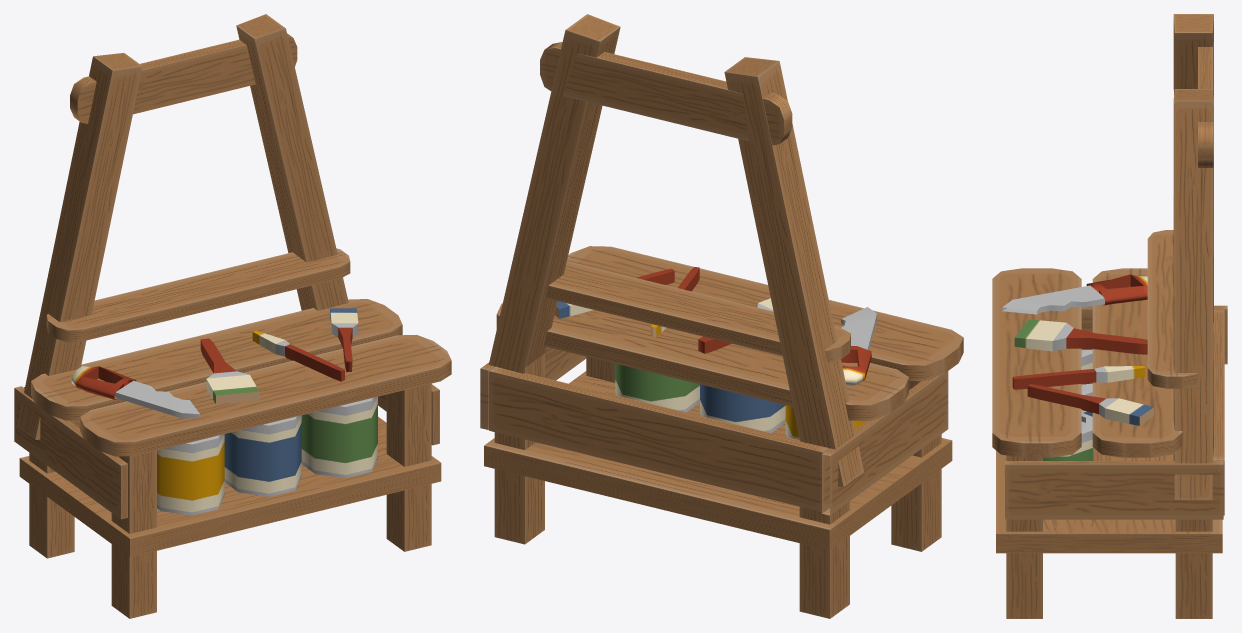
Rendered from SignWriting Table Hand.fbx.
The picture shows the model from 3 angles, left to right: view 1: azimuth 30°, elevation 25°; view 2: azimuth 150°, elevation 25°; view 3: azimuth 270°, elevation 25°; orthographic projection. The views are drawn at different scales.
Visible parts, largest first — view 1: CraftingTable; view 2: CraftingTable; view 3: CraftingTable.
Part boxes in pixels (x1,y1,x2,y2): CraftingTable: [14, 14, 451, 618]; CraftingTable: [480, 14, 963, 618]; CraftingTable: [992, 14, 1227, 618].
Size of the model in its own units: 0.6428 by 0.8323 by 0.3658.
Materials: 1 (1 with a texture image).
